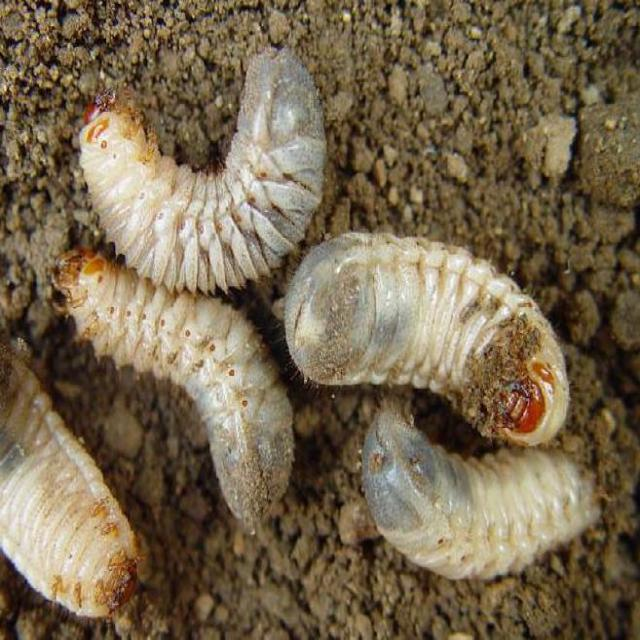Grub-Adult-: (57, 239, 306, 532), (71, 31, 333, 295), (287, 219, 572, 446), (354, 408, 605, 571)
